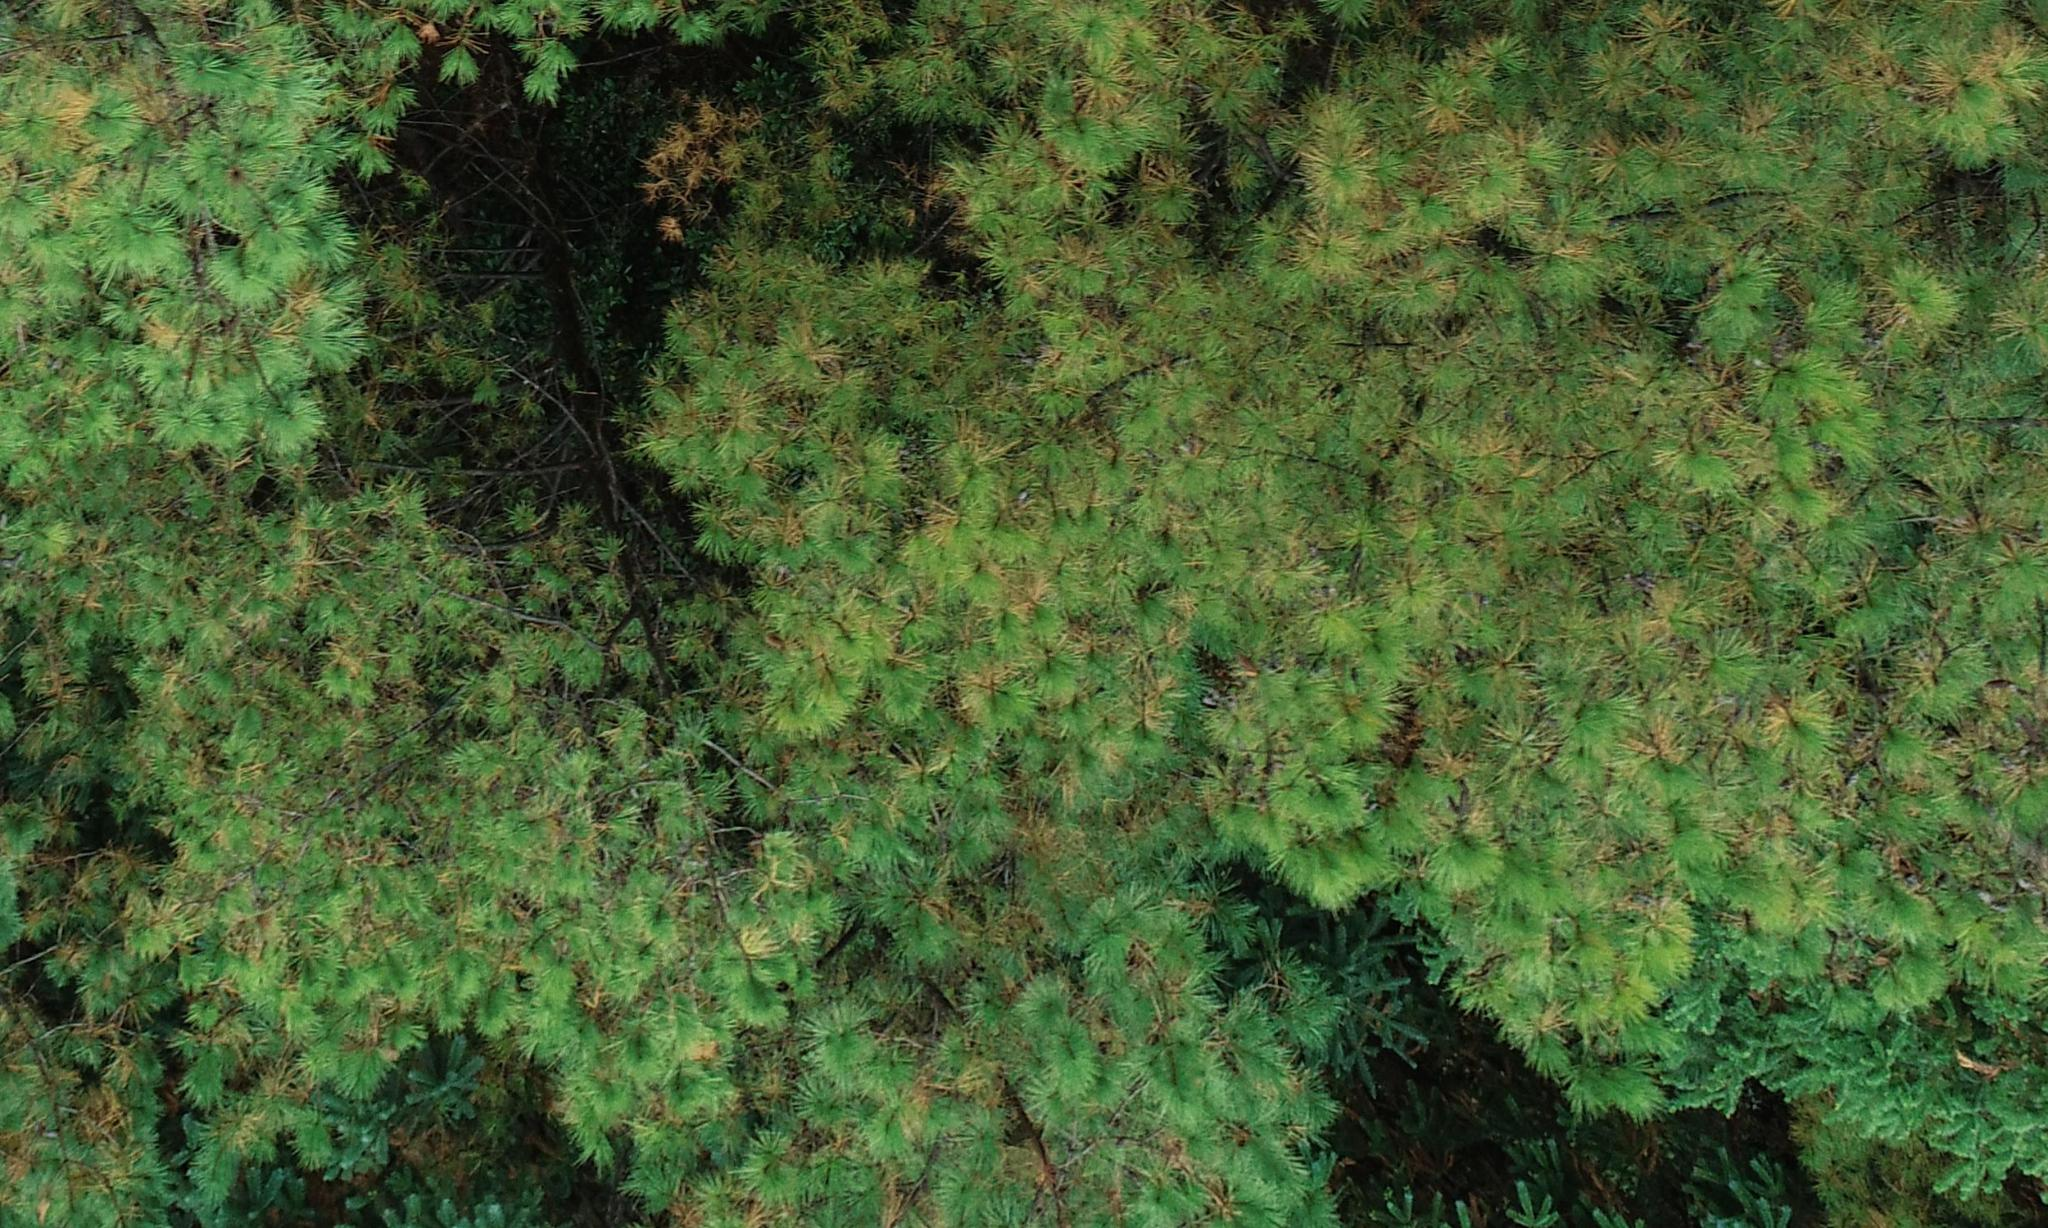light: (612, 235, 1440, 903), (1490, 251, 2048, 939), (15, 503, 583, 1108)
